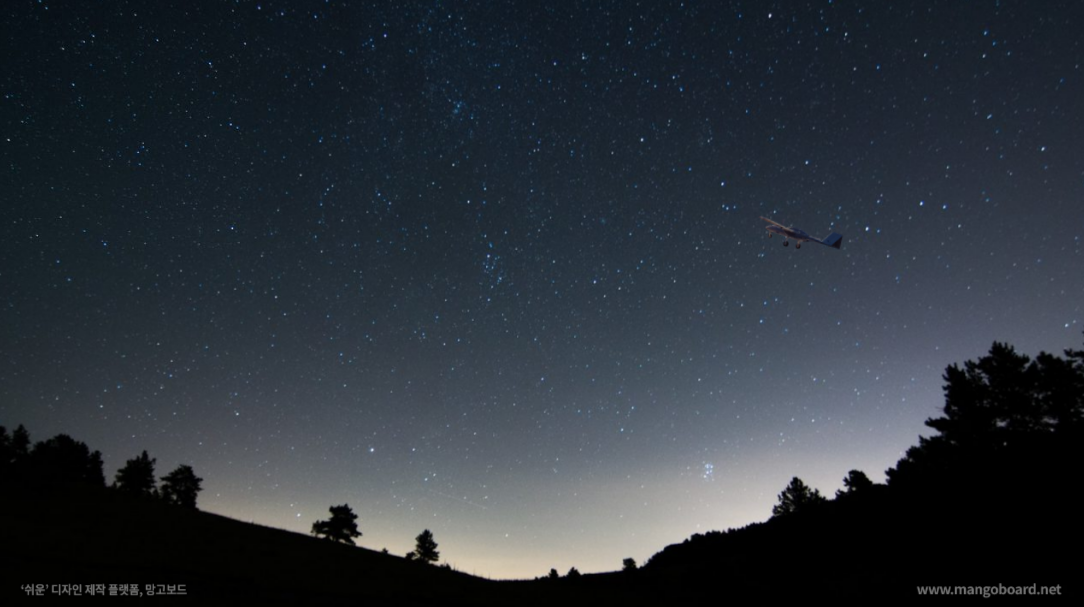military drone: (759, 214, 843, 249)
